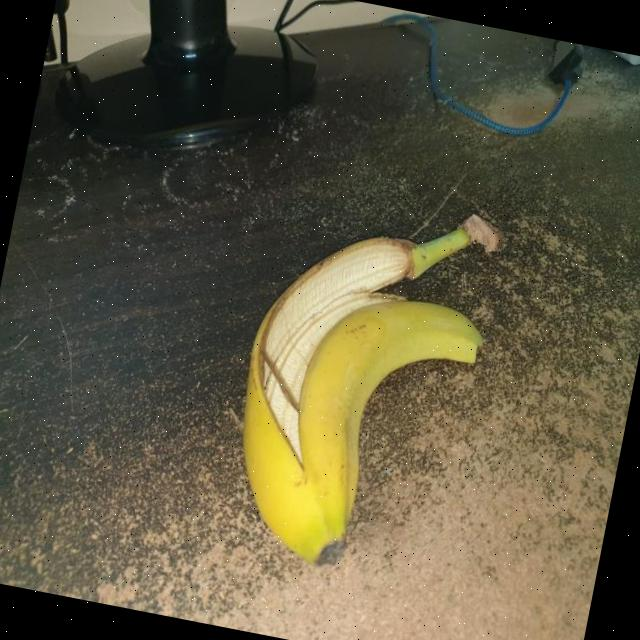banana-peel: (210, 174, 509, 588)
